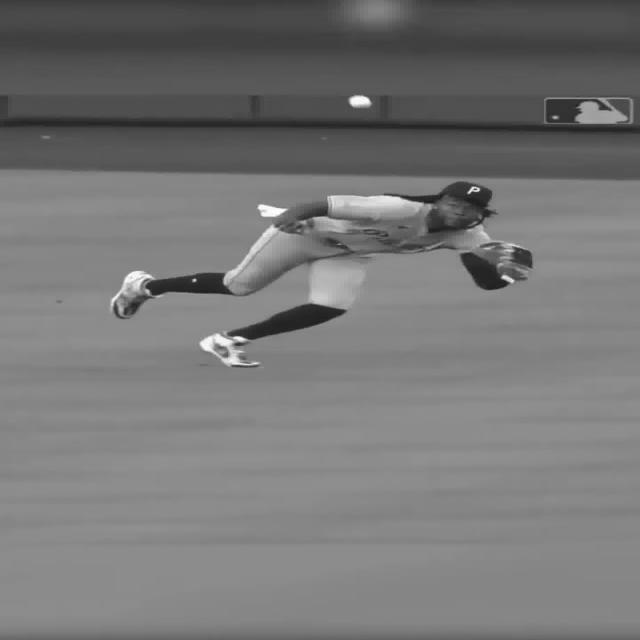baseball: (349, 98, 372, 110)
baseball_glove: (464, 239, 534, 286)
shoe: (110, 270, 165, 319), (192, 334, 262, 372)
